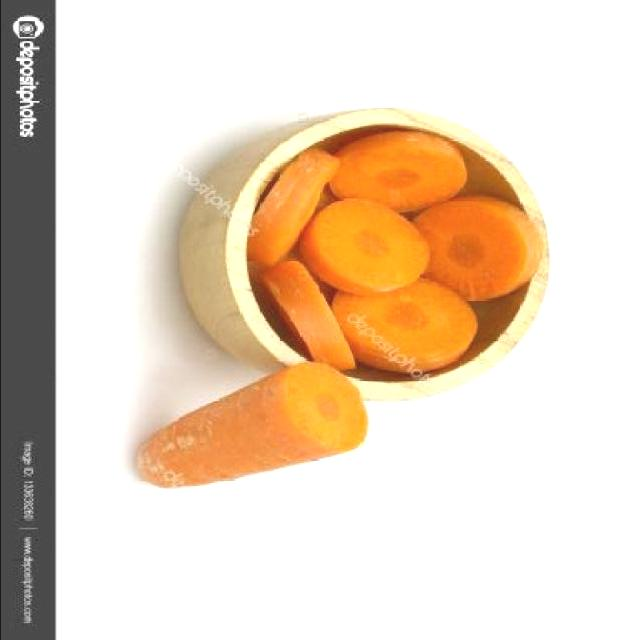carrot: (132, 365, 372, 493)
